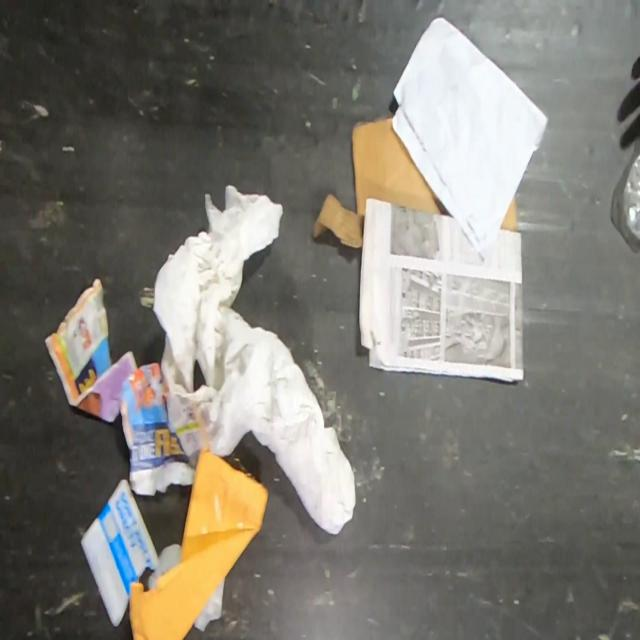cardboard: (128, 448, 270, 639), (352, 117, 454, 218), (311, 194, 365, 248), (499, 192, 517, 233)
rigid_plastic: (622, 152, 640, 242)
